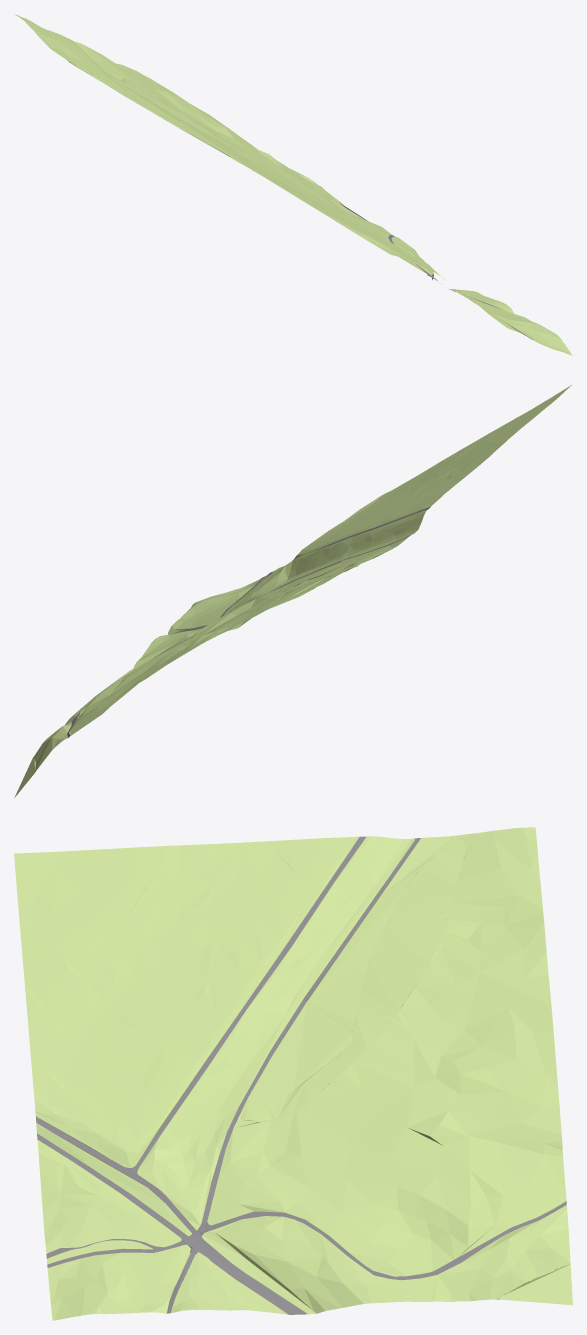
3 renders of one model, top to bottom at view 1: azimuth 30°, elevation 25°; view 2: azimuth 150°, elevation 25°; view 3: azimuth 270°, elevation 25°, orthographic. The views are drawn at different scales.
Bounding box in the file's own units: 216 × 164 × 267.
